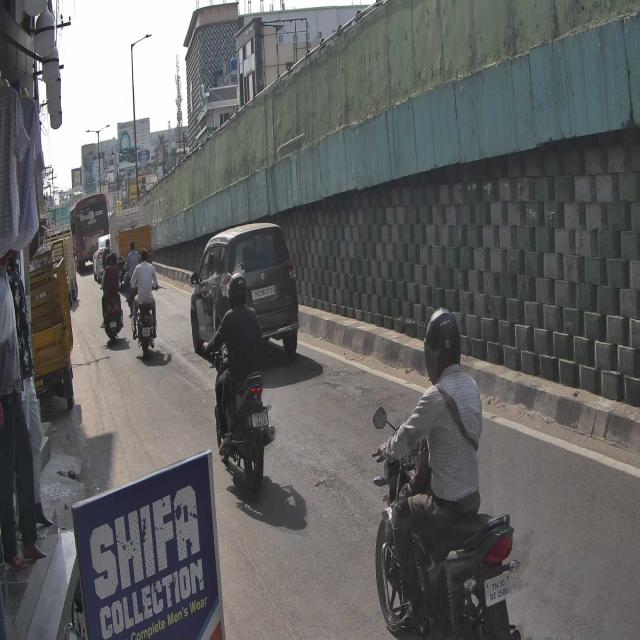single_rider: (369, 303, 524, 640), (201, 272, 277, 496)
